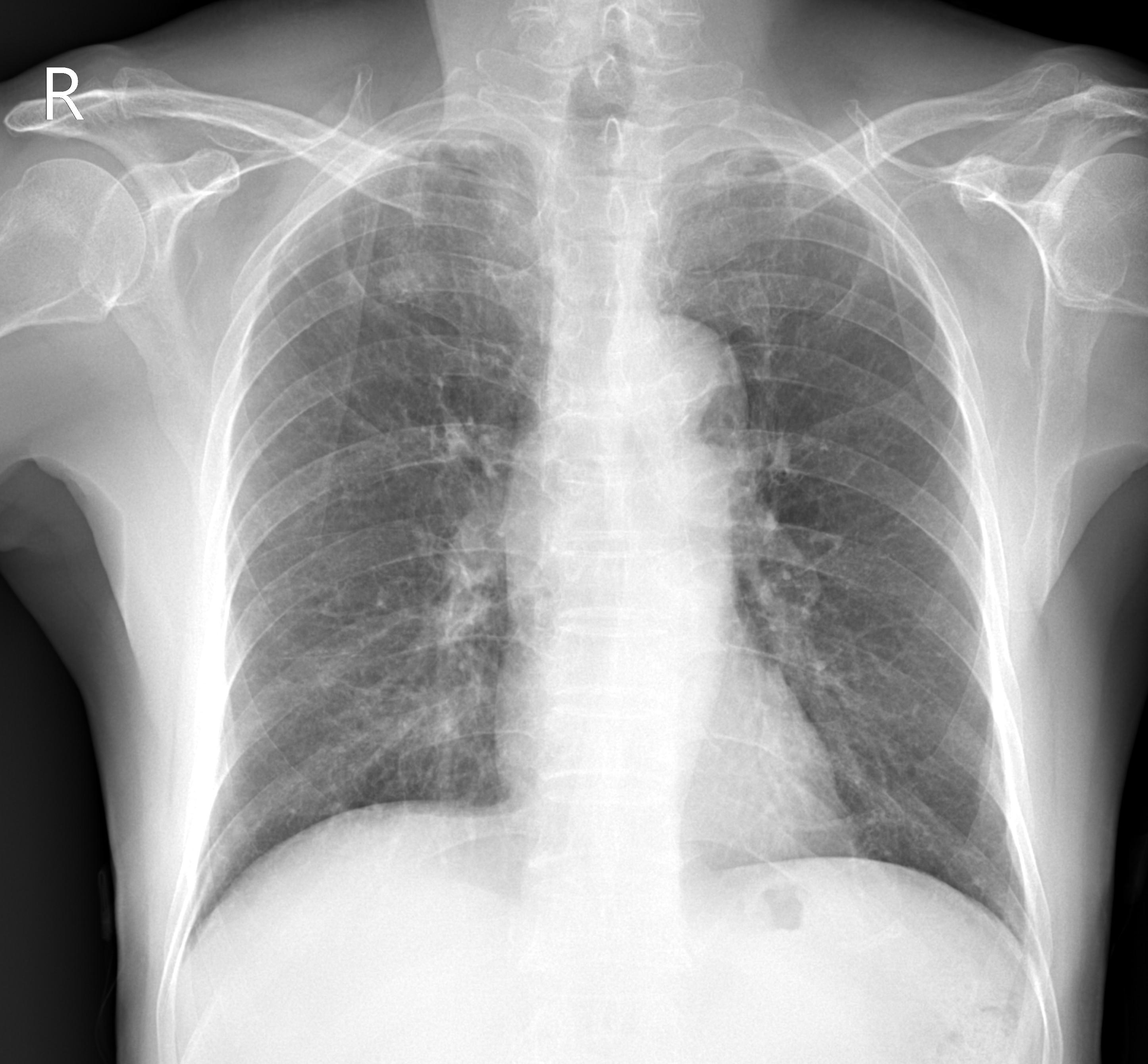Aortic enlargement: (621, 314, 749, 441)
Pleural thickening: (366, 128, 512, 160)
